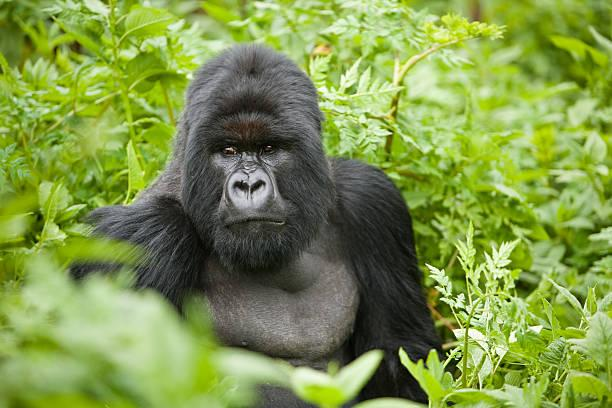goriile_montagne: (56, 42, 446, 404)
